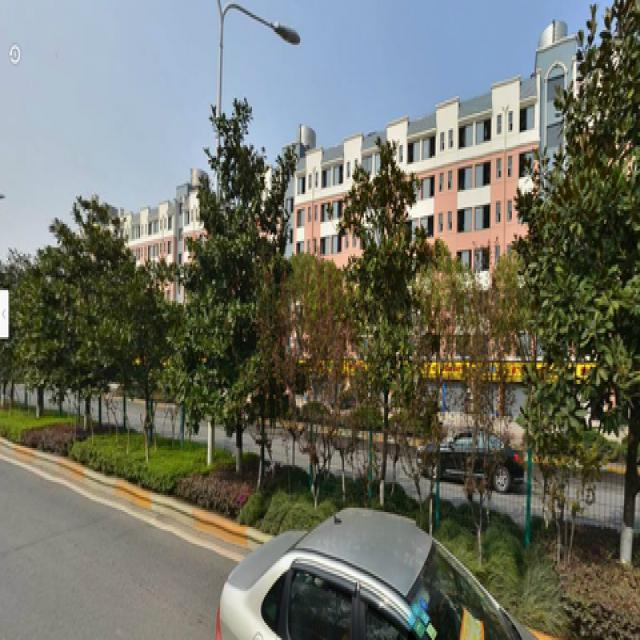magn: (558, 34, 638, 561)
